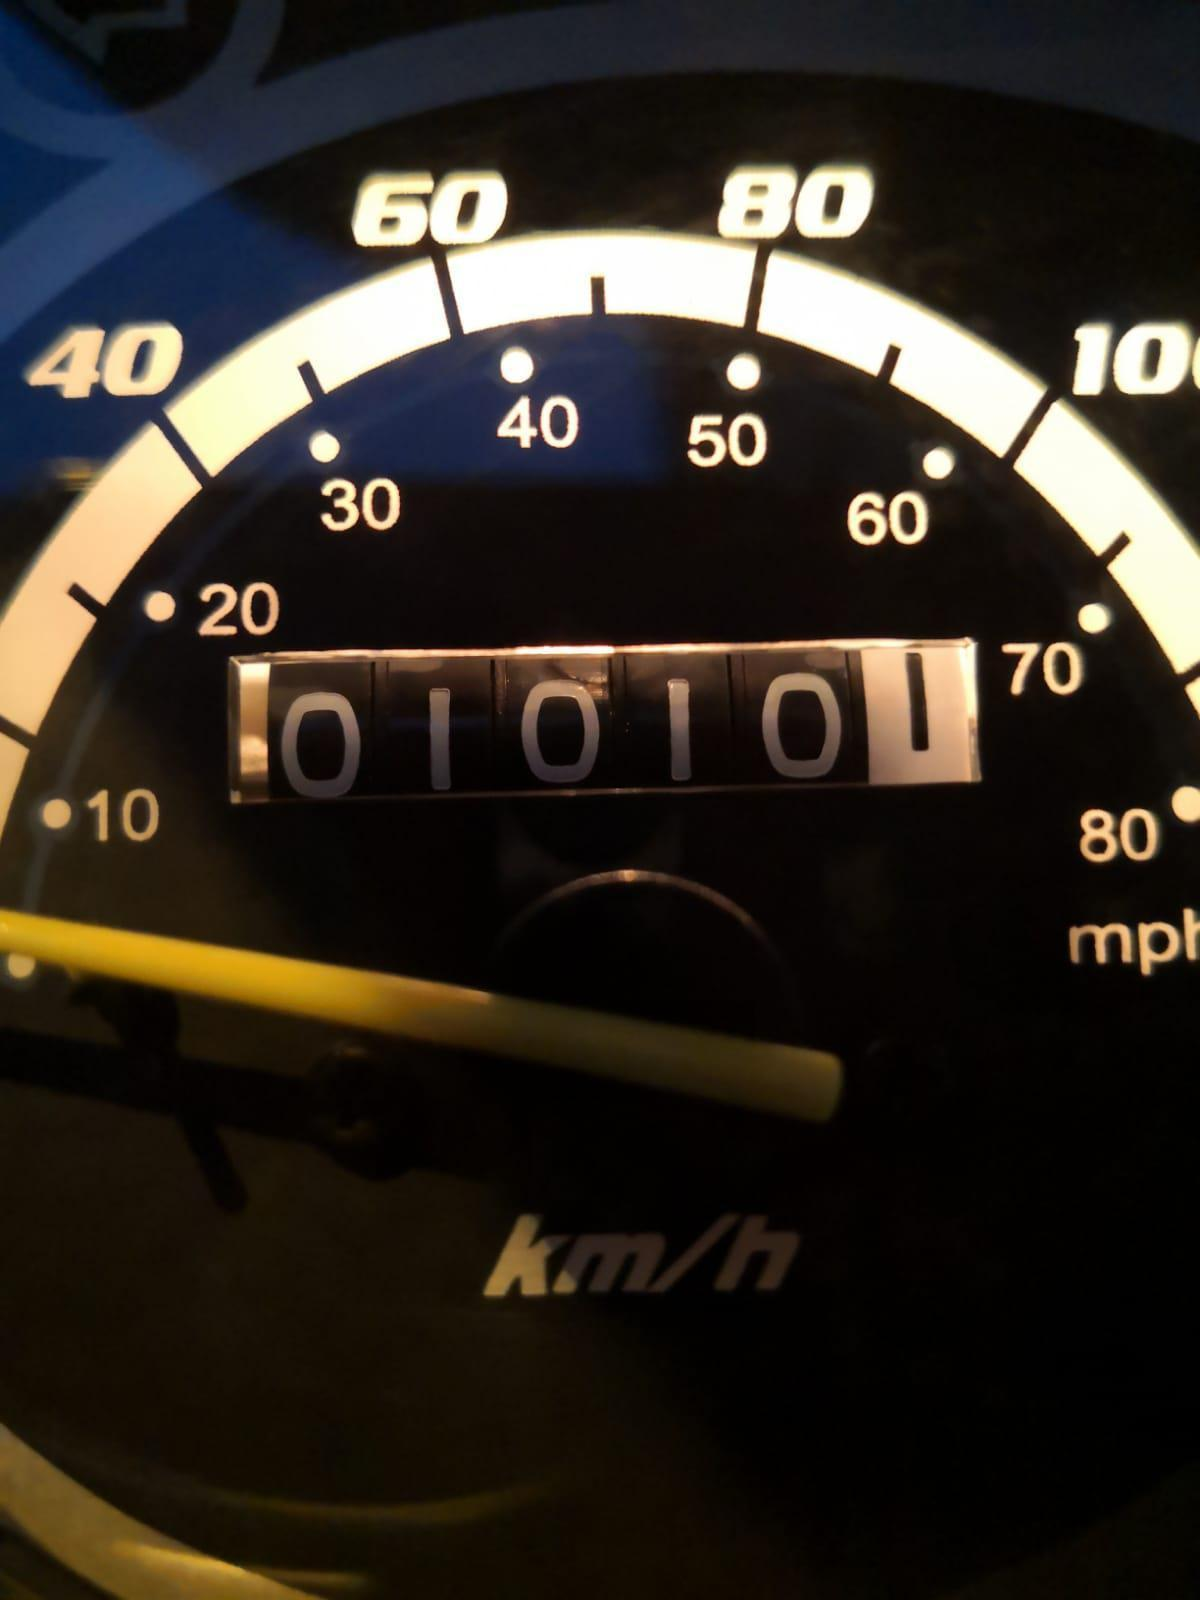0: (274, 666, 371, 808), (516, 659, 608, 787), (753, 661, 848, 784)
1: (881, 641, 952, 784), (648, 654, 718, 791), (412, 666, 471, 799)
odometer: (211, 626, 1008, 823)
